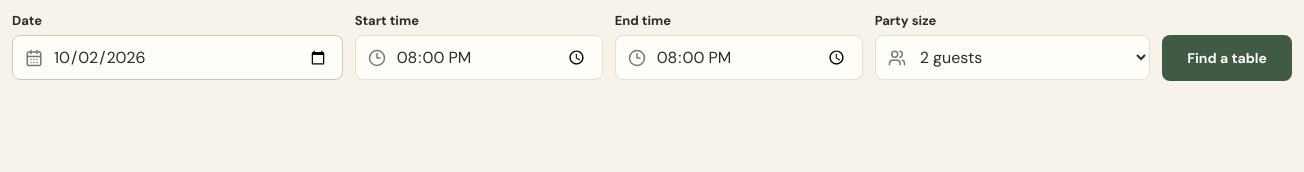
Scenario: ReservationSearch › shows an inline error for an invalid time range
Click the button "Find a table" at (1227, 58), box [1162, 35, 1292, 81]
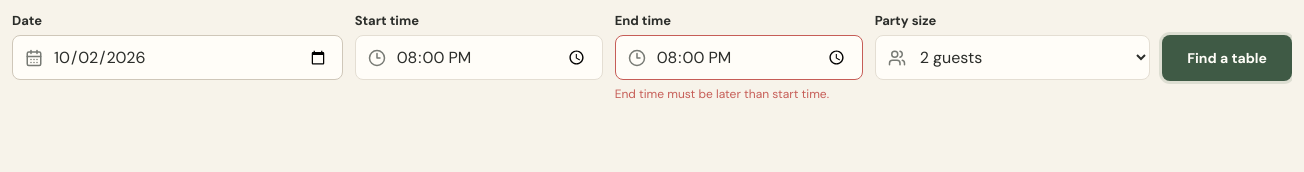
Result: the text "End time must be later than start time." is shown at [615, 86, 863, 102]
